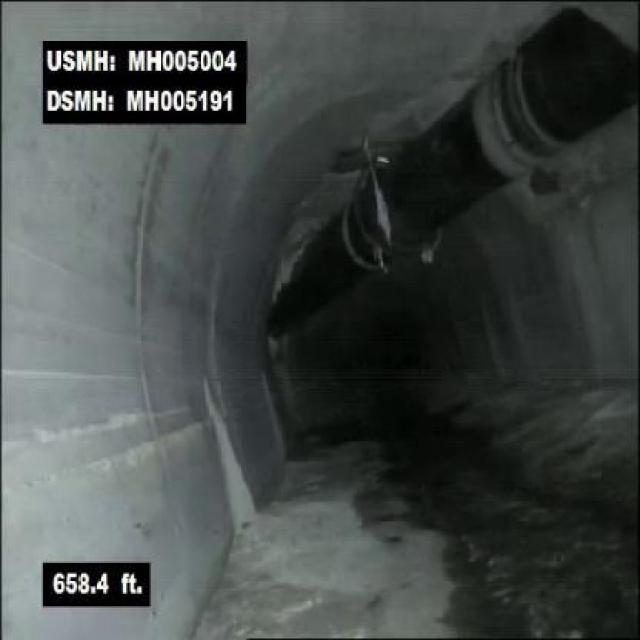Utility intrusion: (263, 0, 638, 352)
